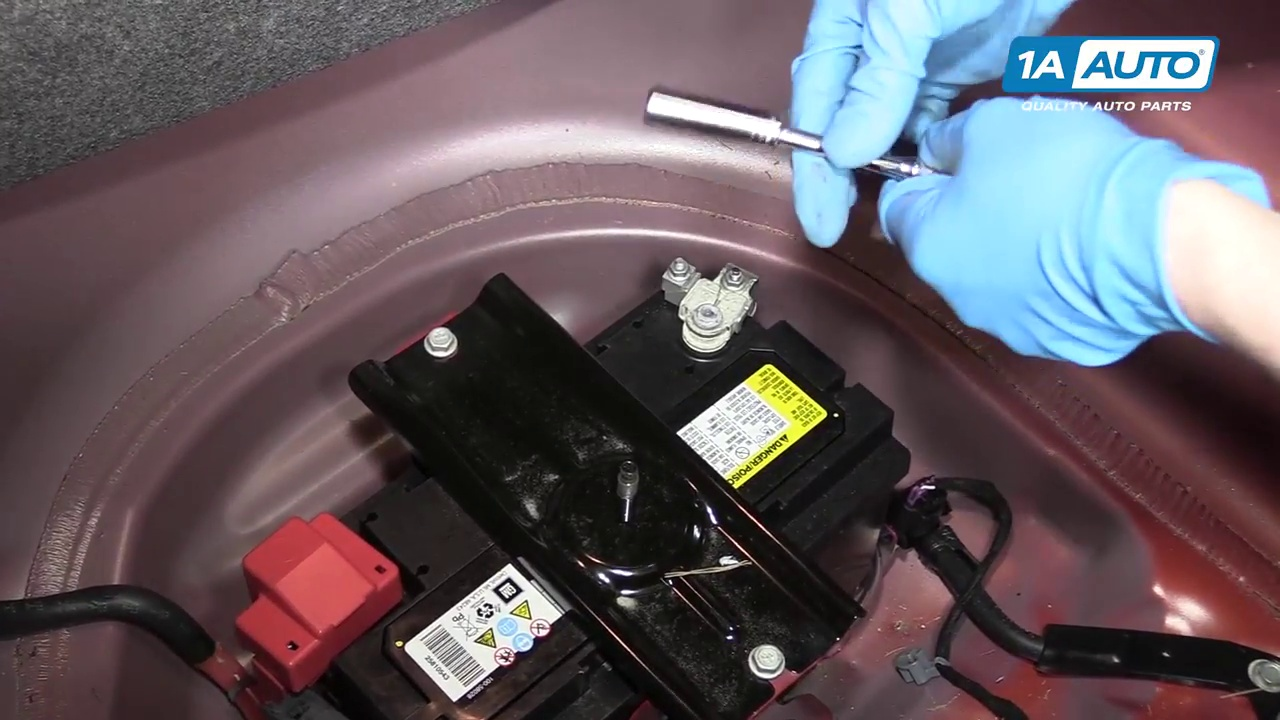battery: (268, 251, 906, 720)
neg_connected: (629, 240, 791, 366)
pos_connected: (219, 434, 401, 679)
